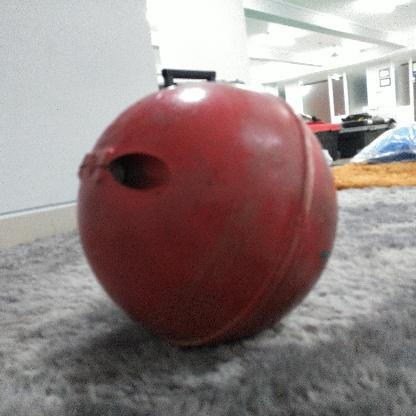red_buoy: (73, 76, 339, 349)
